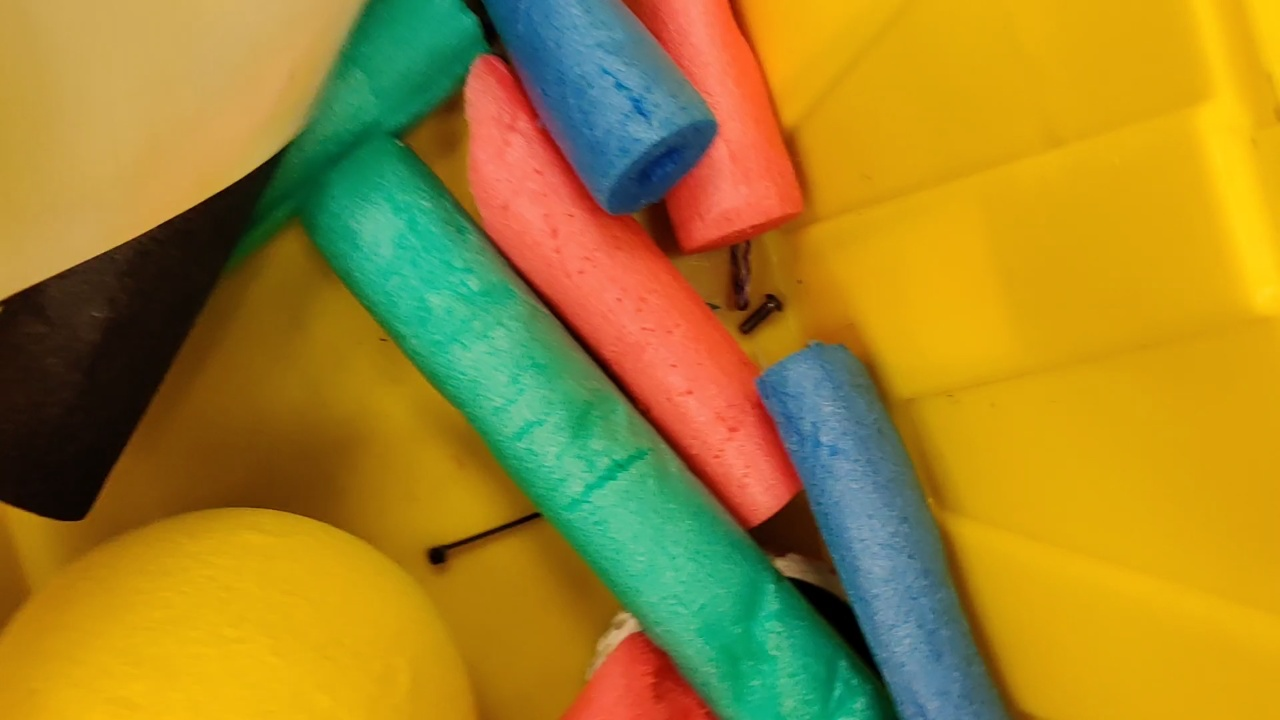Ball: (1, 507, 480, 720)
